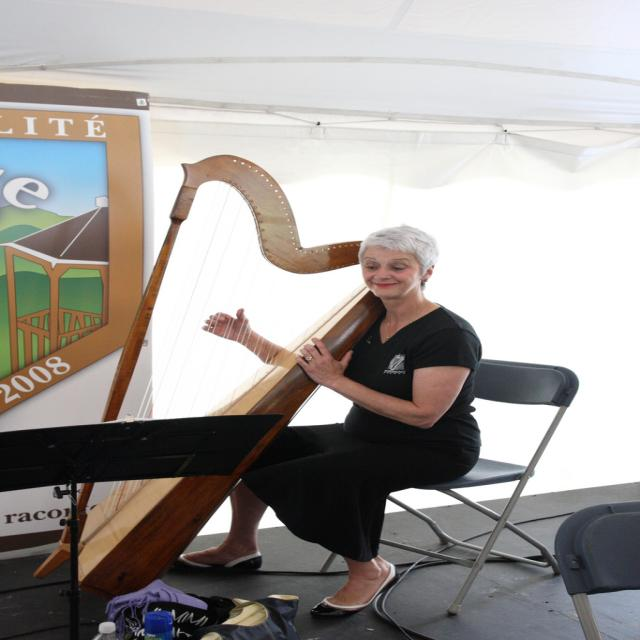harp: (32, 153, 387, 598)
